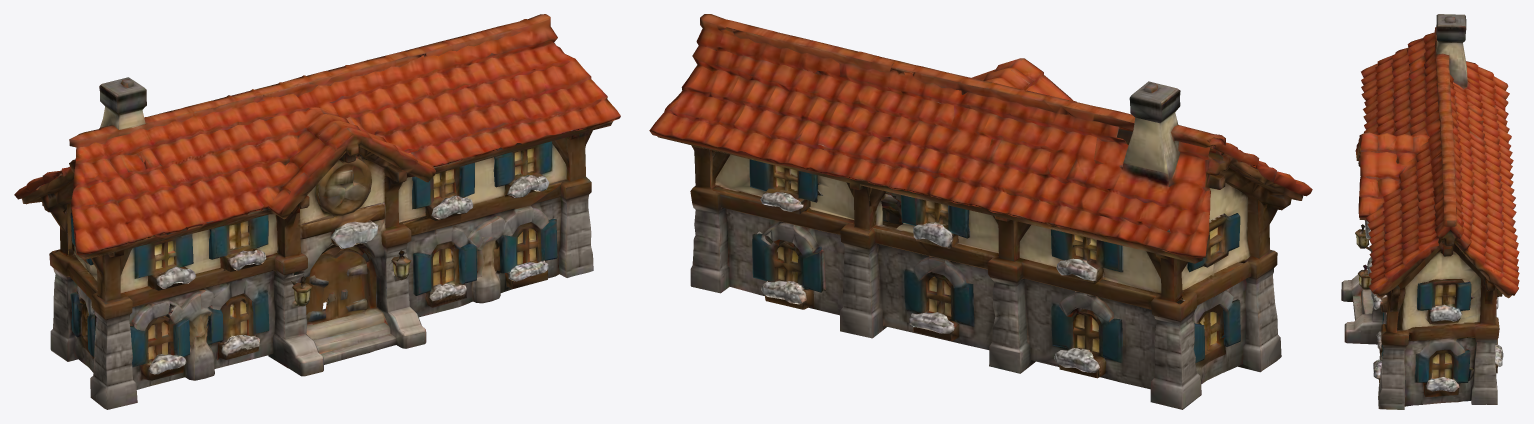
Rendered from candidate.glb.
3 renders of one model, left to right at view 1: azimuth 30°, elevation 25°; view 2: azimuth 150°, elevation 25°; view 3: azimuth 270°, elevation 25°, orthographic. The views are drawn at different scales.
Visible parts, largest first — view 1: alpine__finance_1__native_mobile; view 2: alpine__finance_1__native_mobile; view 3: alpine__finance_1__native_mobile.
Boxes of the visible parts, x1,y1,x2,y2 form: alpine__finance_1__native_mobile: (14, 14, 620, 409); alpine__finance_1__native_mobile: (649, 14, 1312, 409); alpine__finance_1__native_mobile: (1341, 14, 1519, 409).
Bounding box in the file's own units: 1 × 0.4878 × 0.3373.
Materials: 1 (1 with a texture image).
